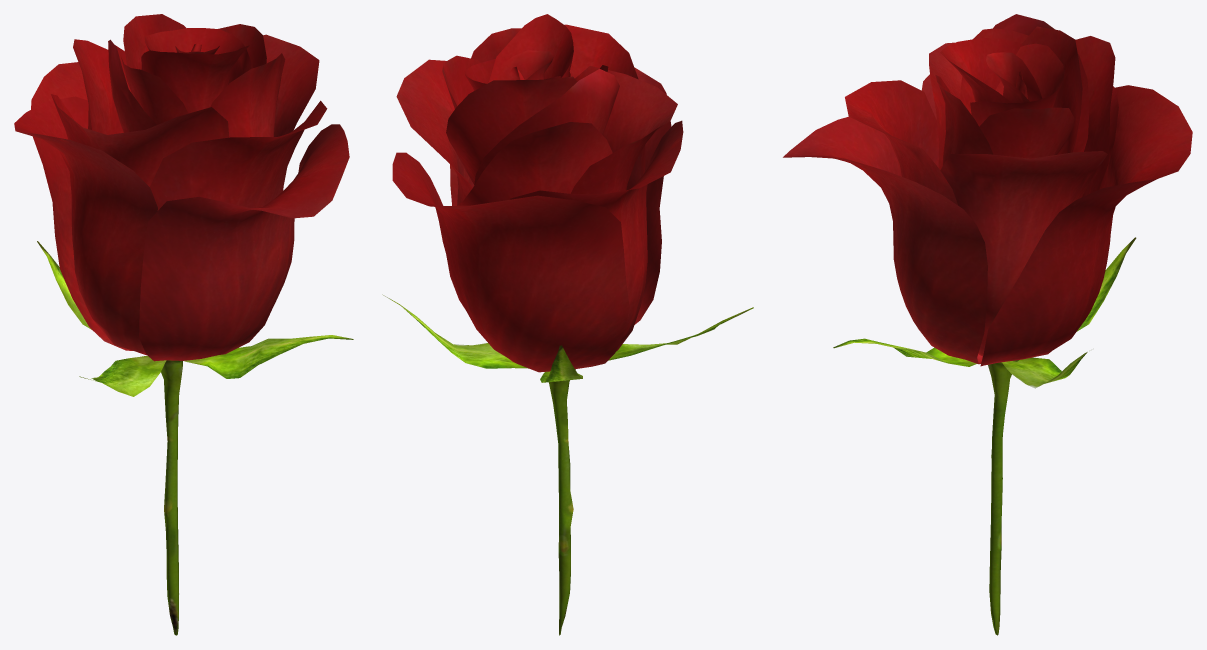
File: pbr_rose.glb
3 views of the same model, side by side, from view 1: azimuth 30°, elevation 25°; view 2: azimuth 150°, elevation 25°; view 3: azimuth 270°, elevation 25° (orthographic).
Parts seen in each view (by area): view 1: g (×2); view 2: g (×2); view 3: g (×2).
Boxes of the visible parts, bbox=[...] form: g (×2): bbox=[14, 14, 353, 635]; g (×2): bbox=[382, 14, 753, 635]; g (×2): bbox=[783, 14, 1192, 635].
Bounding box in the file's own units: 1 × 2 × 1.23.
1 material, 1 textured.
